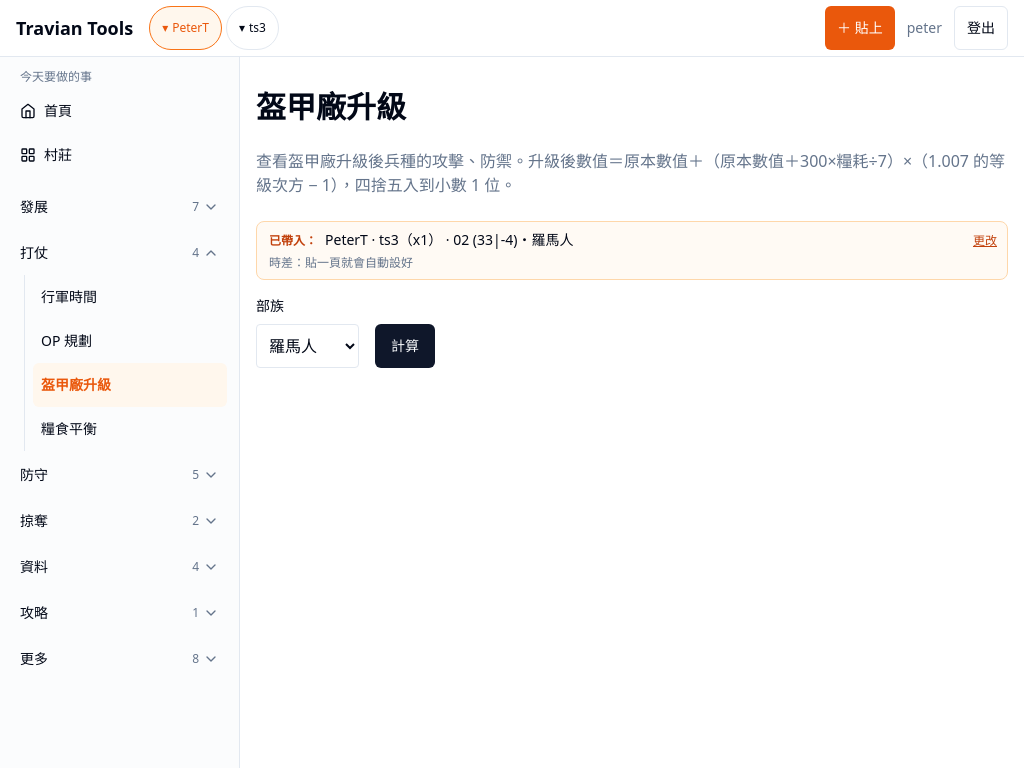
Scenario: 一個帳號多個部族（P0-25） › 征服保留部族的世界 › switching village in the 已帶入 editor switches the tribe
The image size is (1024, 768).
Check: the text with test id "autofill-village" shows "羅馬人", box [518,230,574,249]
Click the button with test id "autofill-edit". click: (985, 241)
box: [963,219,1007,263]
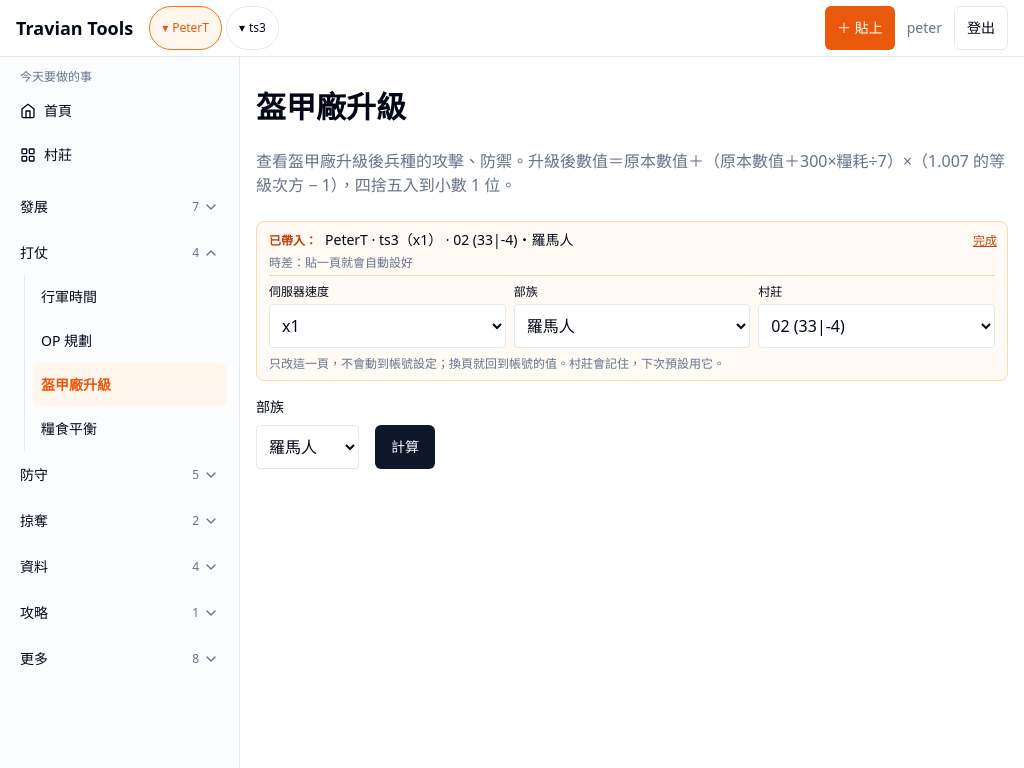
Select "01 (30|-2)" in the dropdown labelled "村莊". click: (877, 326)
box: [758,304,995,348]
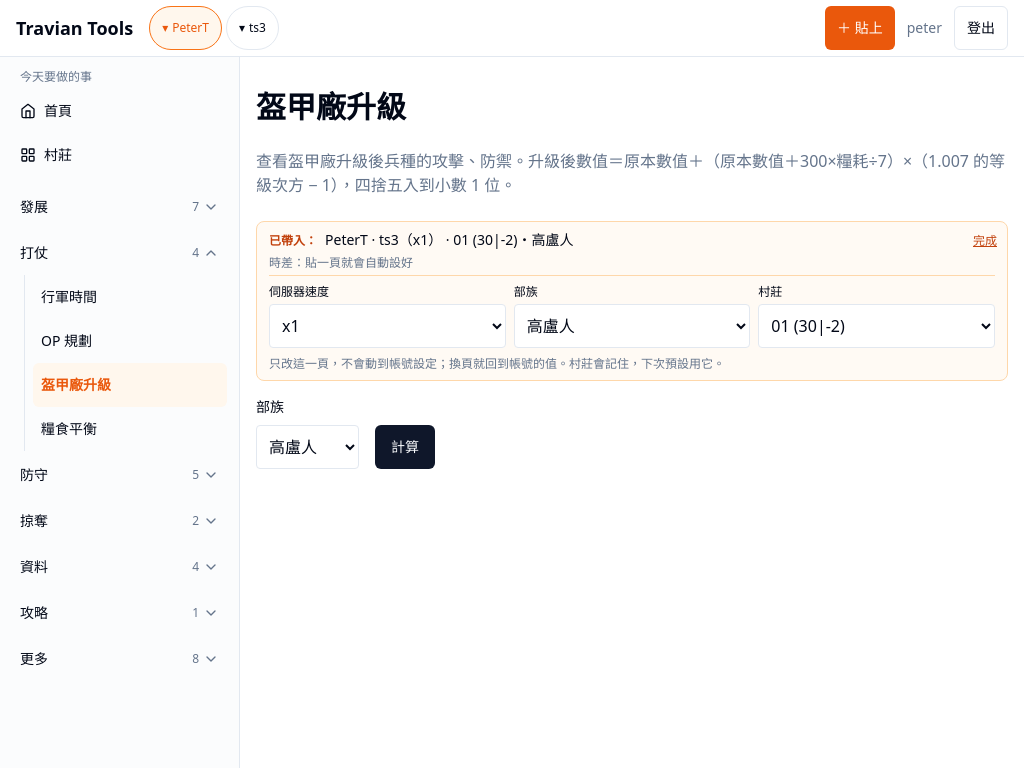
Check: the text with test id "autofill-village" reads "01 (30|-2)・高盧人", box [453,230,574,249]
